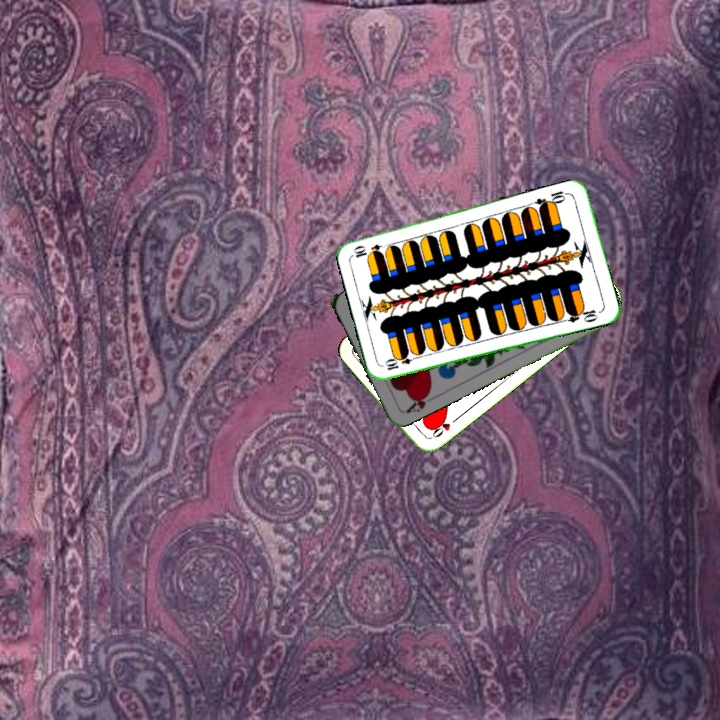E10: (532, 187, 572, 212), (381, 349, 421, 373)
HA: (402, 386, 439, 416)
HO: (424, 413, 460, 442)
